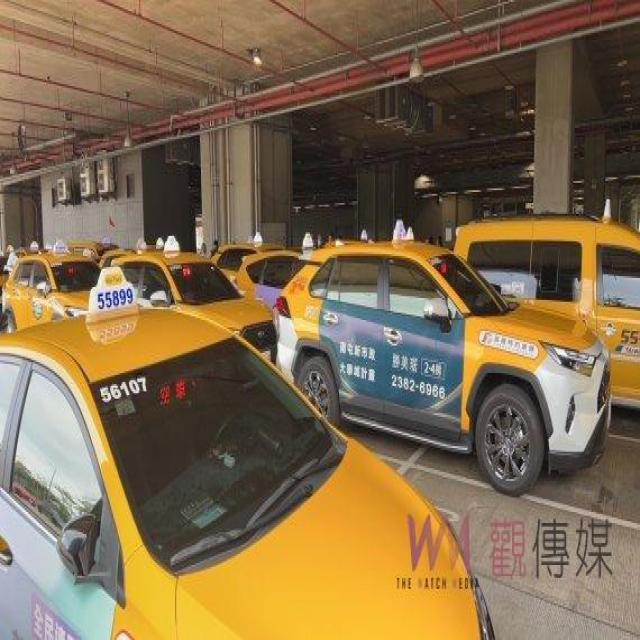Door: (278, 244, 610, 494), (111, 250, 276, 361)
Taxi: (0, 309, 491, 639)
